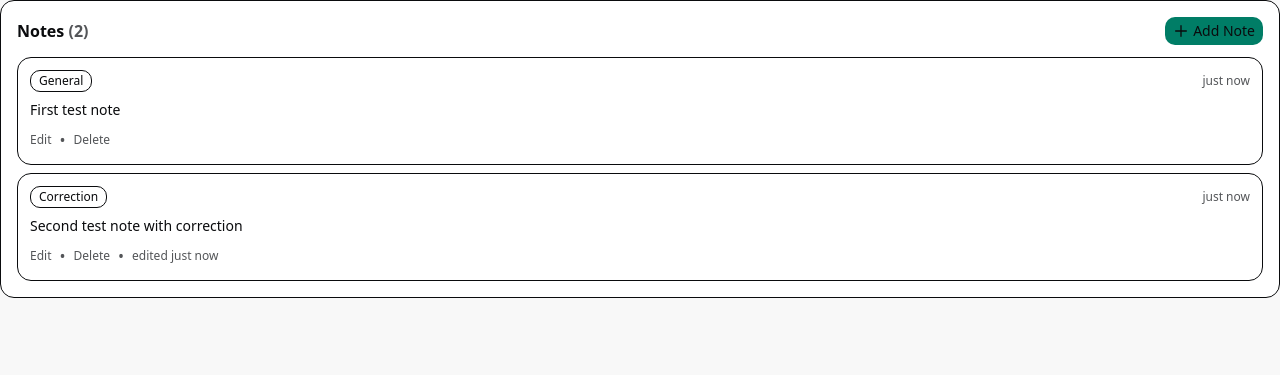
it: UserNotesPanel › Edit Note › cancels edit and restores original content
Click the button "Edit" below "First test note" at (41, 140), box [30,132,52,148]
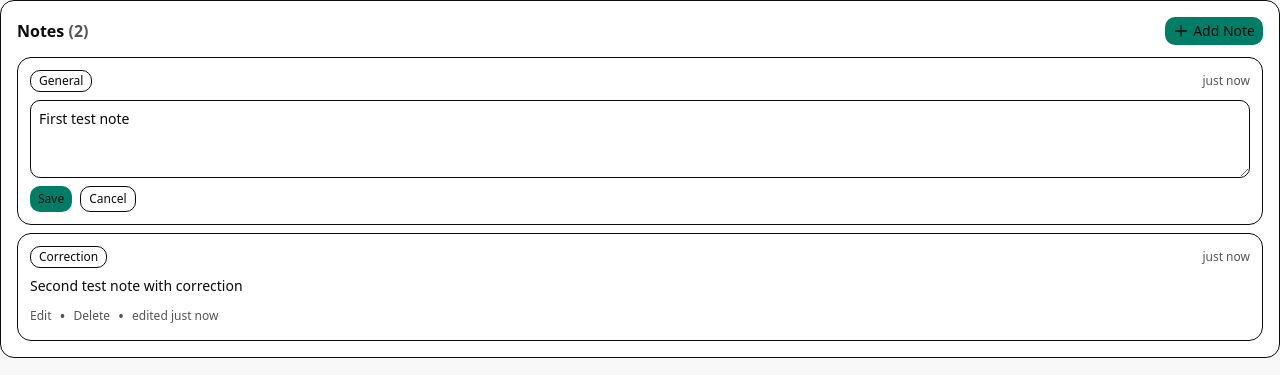
Replace the text in the text box showing "First test note" with "Temporary change" at (640, 139), box [30,100,1250,178]
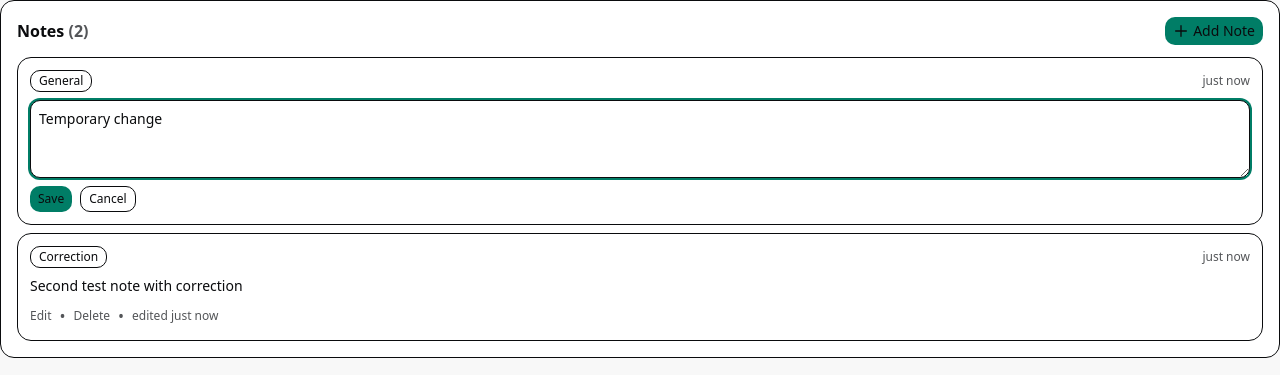
Click the button "Cancel" at (108, 199), box [80,186,136,212]
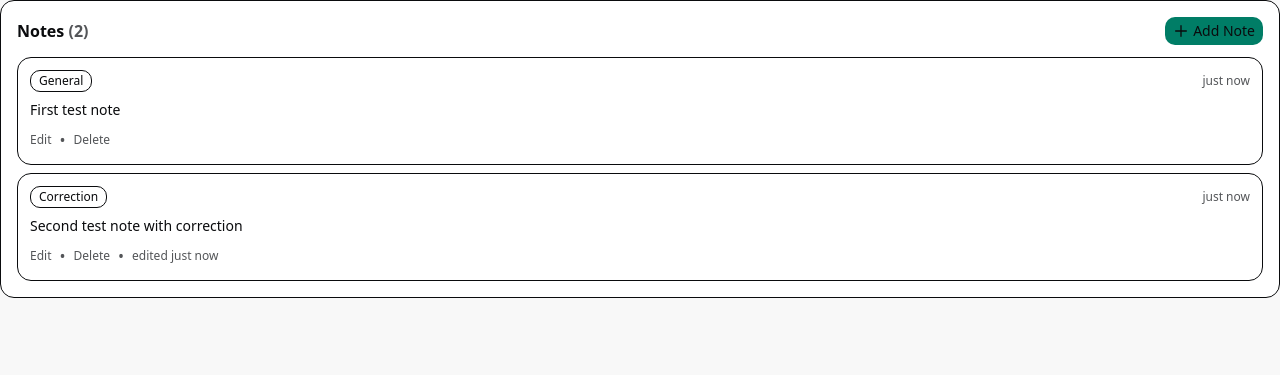
Check: the text "First test note" is shown, box [30,100,120,119]
